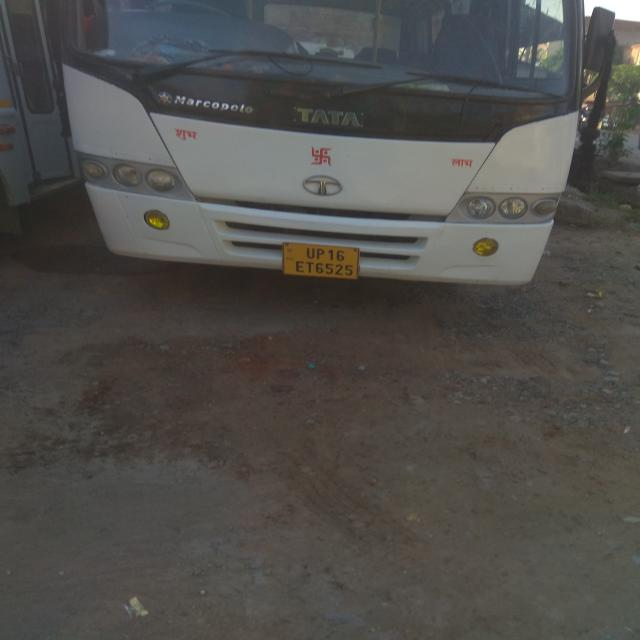Bus: (52, 0, 622, 294)
